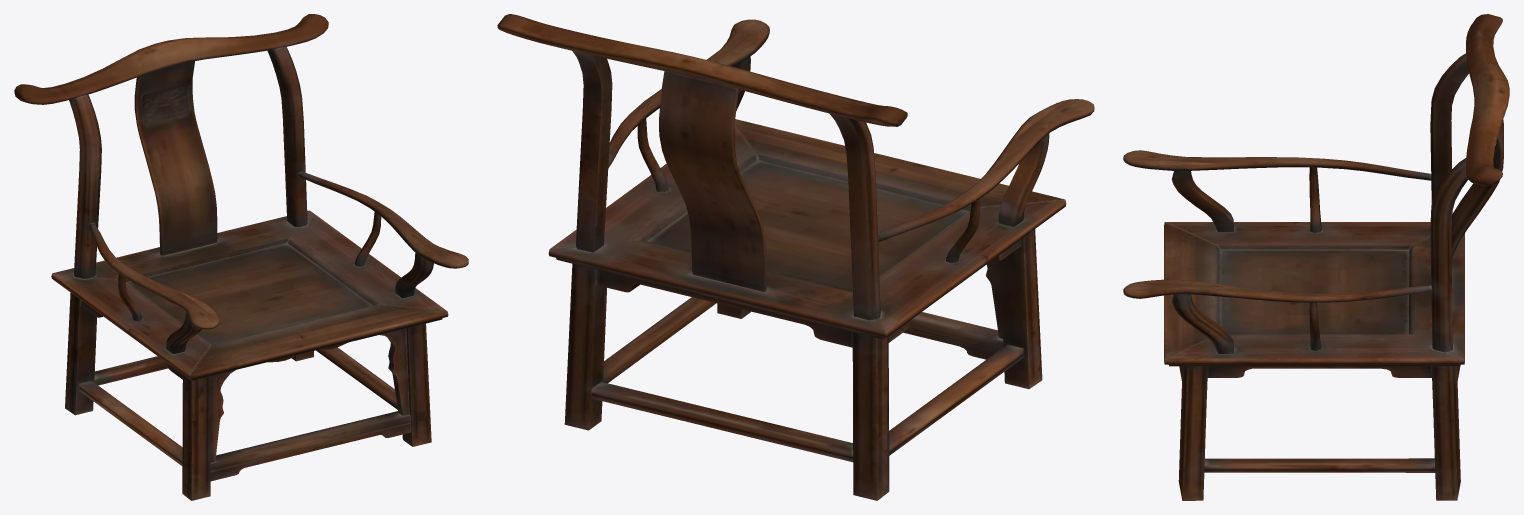
The model's file is ph-chinese-armchair.glb.
The picture shows the model from 3 angles, left to right: view 1: azimuth 30°, elevation 25°; view 2: azimuth 150°, elevation 25°; view 3: azimuth 270°, elevation 25°; orthographic projection. The views are drawn at different scales.
Visible parts, largest first — view 1: chinese_armchair; view 2: chinese_armchair; view 3: chinese_armchair.
Part boxes in pixels (box(x1,y1,x2,y2)): chinese_armchair: box(14, 14, 468, 500); chinese_armchair: box(497, 14, 1094, 500); chinese_armchair: box(1123, 14, 1509, 500).
Size of the model in its own units: 1 by 1 by 1.
1 material, 1 textured.
